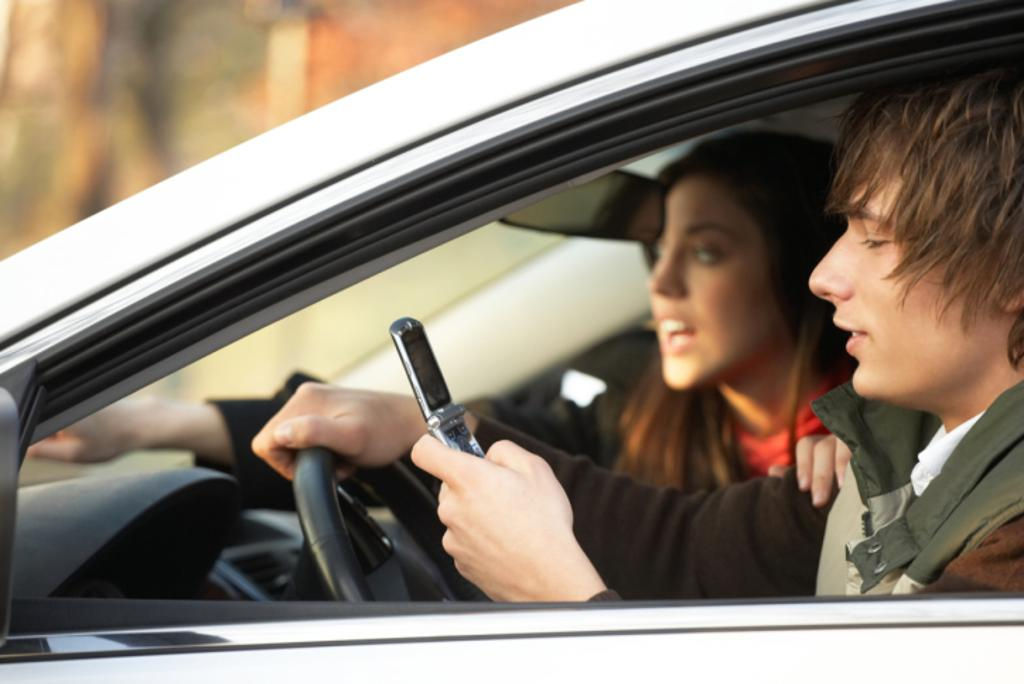face: (806, 138, 978, 396), (648, 184, 766, 386)
